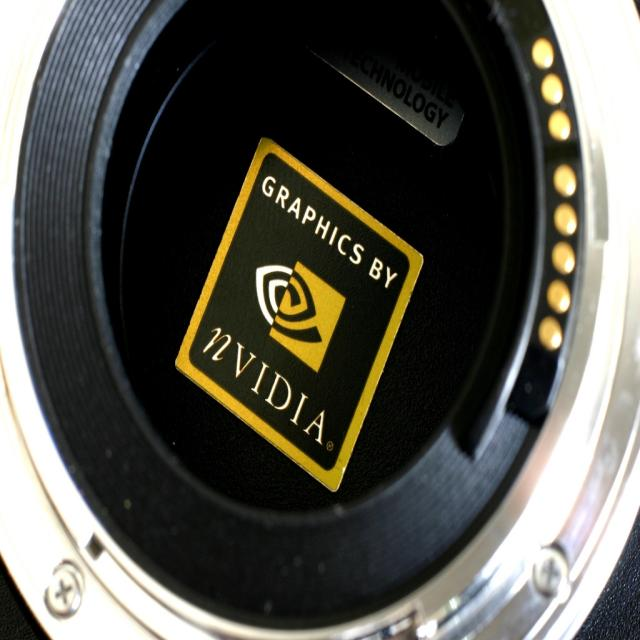nvidia: (256, 262, 346, 372)
